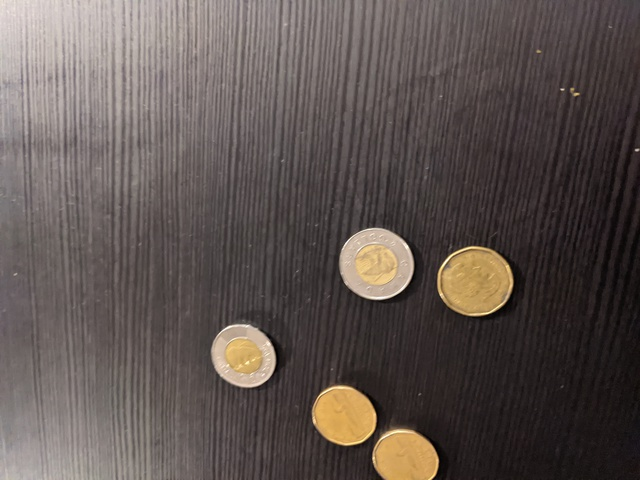loonie: (434, 240, 514, 322), (308, 377, 378, 444), (369, 424, 444, 476)
twonie: (203, 322, 284, 395), (339, 228, 415, 304)
